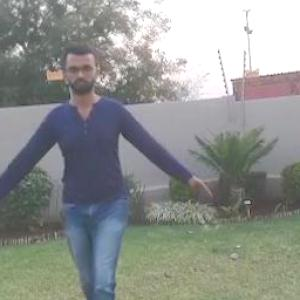land: (2, 55, 186, 299)
